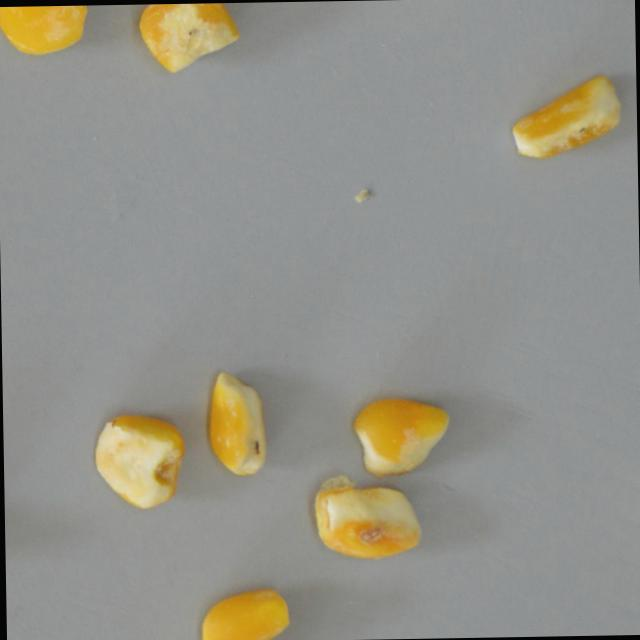dañado: (313, 478, 424, 561), (92, 414, 187, 509), (206, 370, 268, 476)
estandar: (352, 398, 451, 475), (199, 589, 291, 640)
pelicula: (0, 4, 88, 56)
punto_negro: (509, 73, 623, 160), (137, 1, 240, 73)
